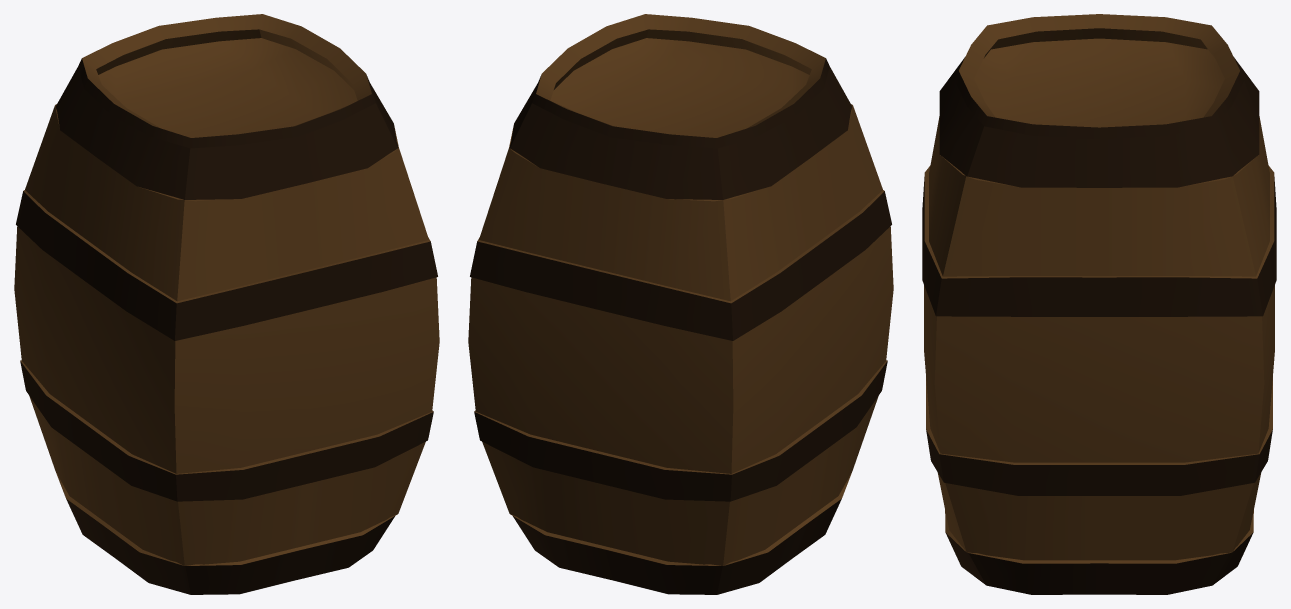
File: mod_barrel_v1.fbx
3 views of the same model, side by side, from view 1: azimuth 30°, elevation 25°; view 2: azimuth 150°, elevation 25°; view 3: azimuth 270°, elevation 25° (orthographic). The views are drawn at different scales.
Parts seen in each view (by area): view 1: pCube3; view 2: pCube3; view 3: pCube3.
Boxes of the visible parts, <box> form: pCube3: <box>14,14,439,594</box>; pCube3: <box>468,14,893,594</box>; pCube3: <box>922,14,1276,594</box>.
Bounding box in the file's own units: 0.1947 × 0.3027 × 0.2037.
